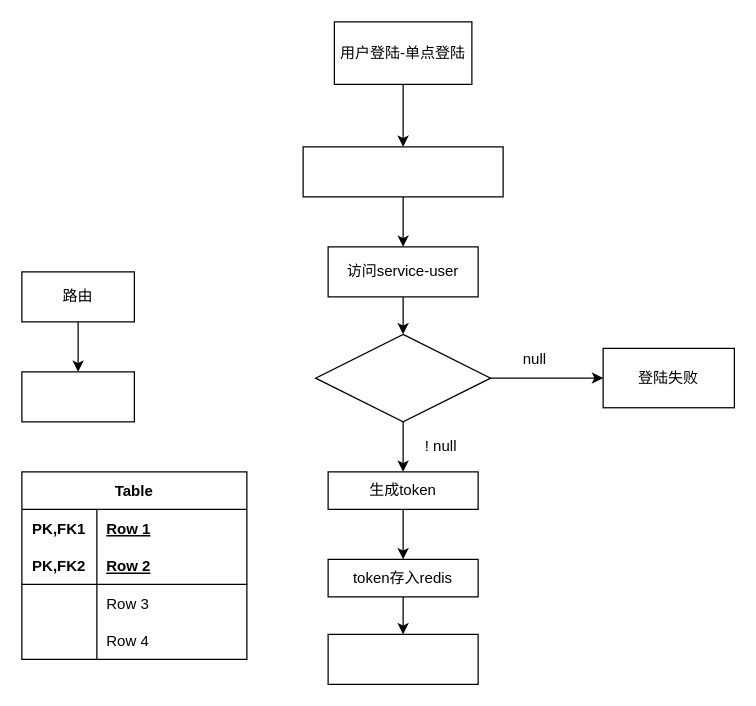
Some shapes in this 756 by 706 pixel diagram are drawn without their labels. The shapes that lost their labels are listed below. From the top down, each one's centre as x and y in pixels, then its label:
At (402,171): "用户点击登陆发送异步请求 传入userInfo".
At (402,377): "根据userInfo查数据库".
At (402,658): "返回一个Map （含有token 和nickName）".
